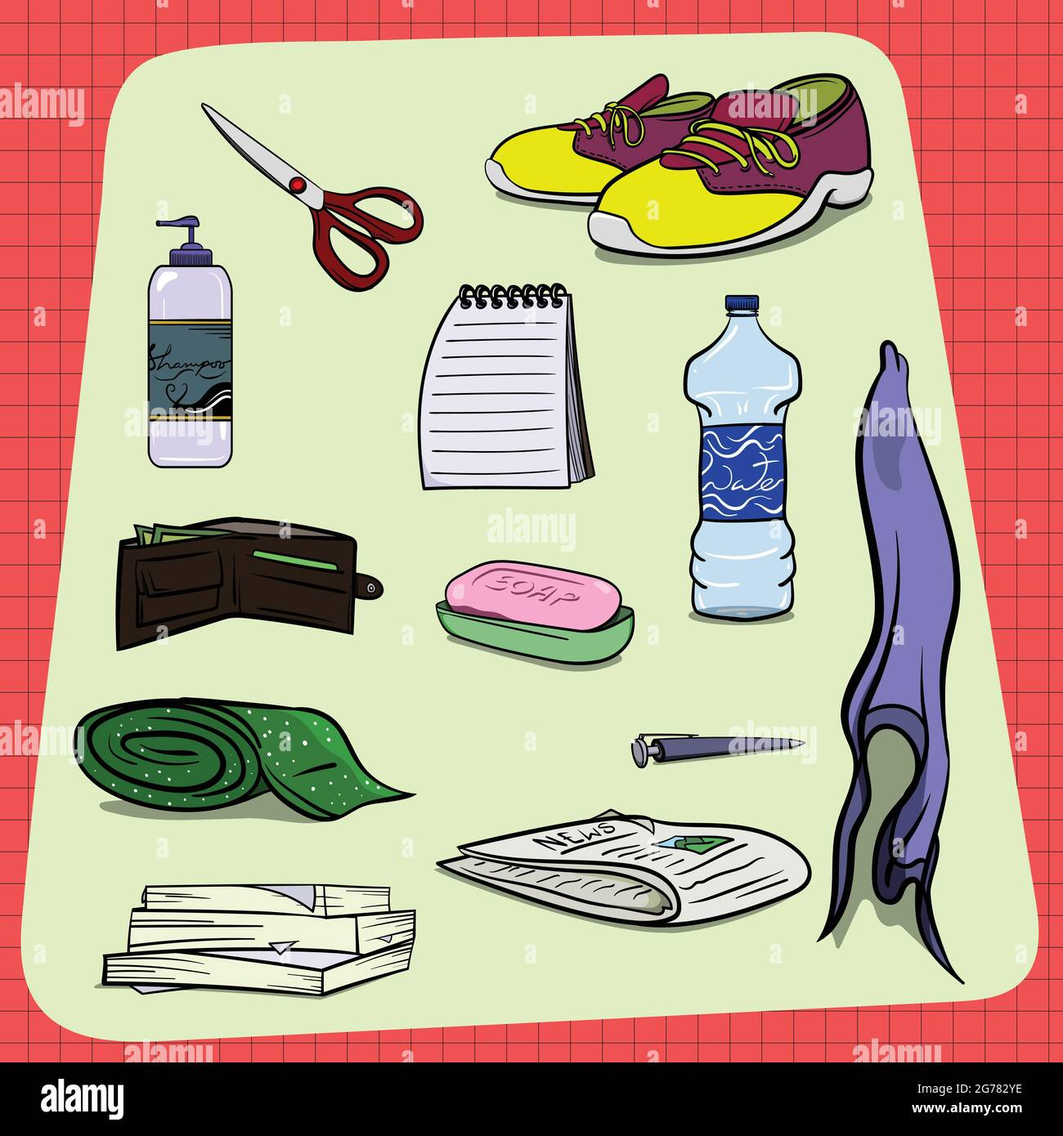not a gesture sign: (191, 66, 404, 347)
